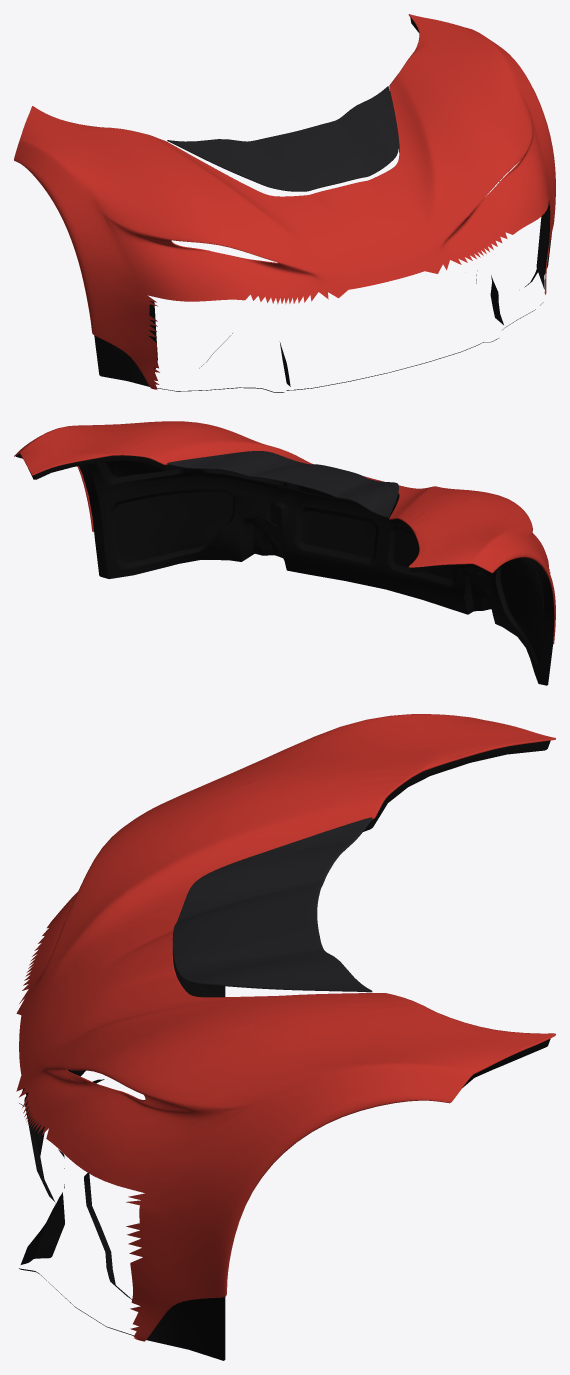
Rendered from vela_hood_track.glb.
The picture shows the model from 3 angles, top to bottom: view 1: azimuth 30°, elevation 25°; view 2: azimuth 150°, elevation 25°; view 3: azimuth 270°, elevation 25°; orthographic projection. The views are drawn at different scales.
Parts seen in each view (by area): view 1: hood.002, hood_vent.002, hood_inner.002; view 2: hood_inner.002, hood.002, hood_vent.002; view 3: hood.002, hood_vent.002, hood_inner.002.
Boxes of the visible parts, <box> form: hood.002: <box>14,14,555,389</box>; hood_vent.002: <box>167,86,398,191</box>; hood_inner.002: <box>94,17,551,392</box>; hood_inner.002: <box>16,453,554,685</box>; hood.002: <box>14,421,555,644</box>; hood_vent.002: <box>167,451,398,517</box>; hood.002: <box>16,714,555,1341</box>; hood_vent.002: <box>172,817,372,992</box>; hood_inner.002: <box>19,740,550,1360</box>.
Bounding box in the file's own units: 1.9 × 0.7218 × 1.16.
